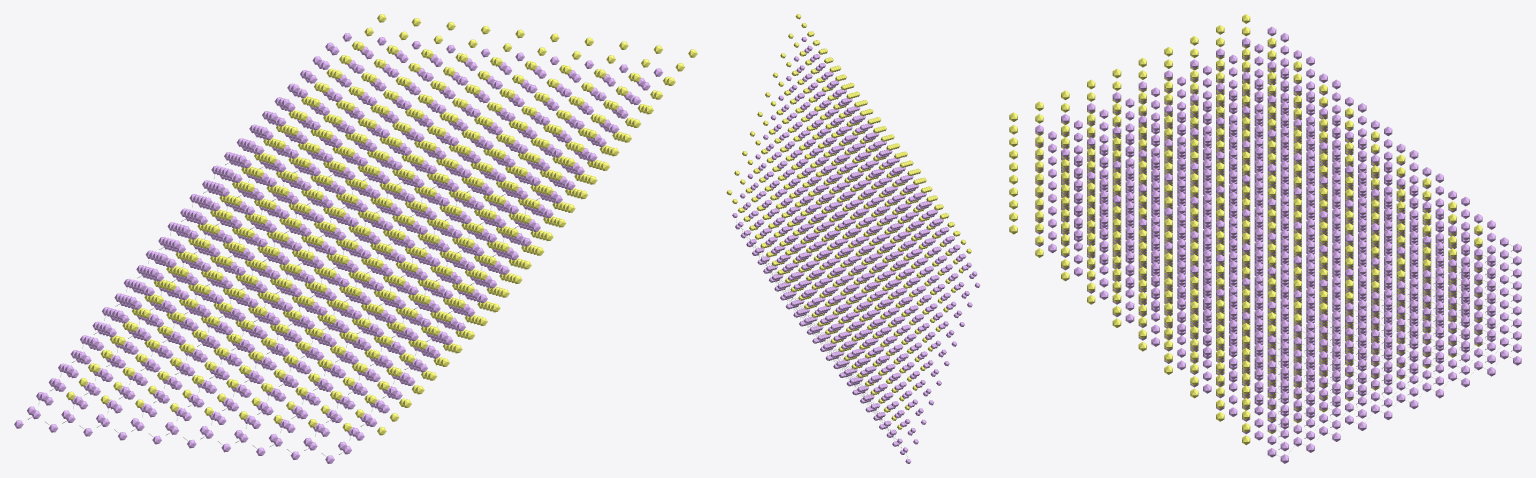
The model's file is sulfur_cathode.glb.
3 views of the same model, side by side, from view 1: azimuth 30°, elevation 25°; view 2: azimuth 150°, elevation 25°; view 3: azimuth 270°, elevation 25° (orthographic). The views are drawn at different scales.
Size of the model in its own units: 56.62 by 56.62 by 56.62.
